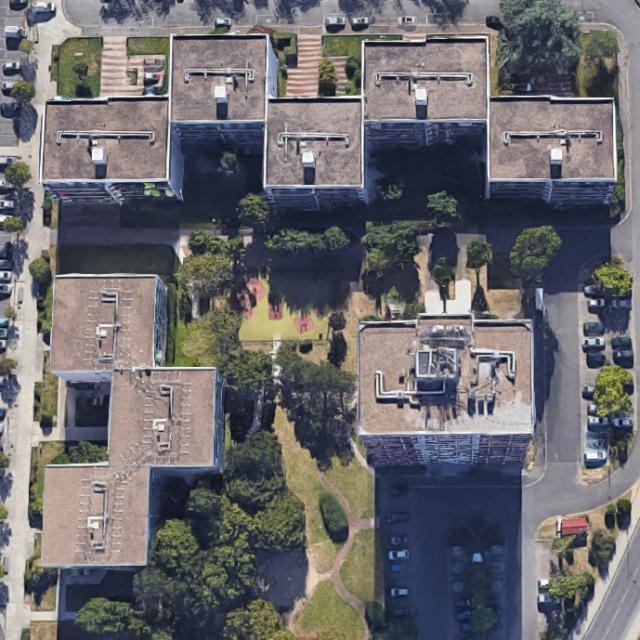immeuble: (42, 363, 224, 573), (358, 313, 534, 464), (36, 94, 185, 207), (358, 34, 492, 151), (489, 98, 617, 205), (48, 271, 169, 381), (171, 35, 276, 151), (263, 98, 367, 211)
